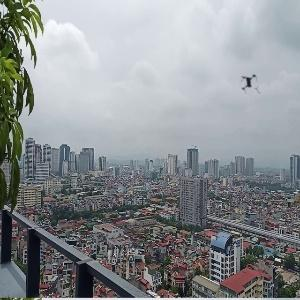drone: (226, 61, 273, 108)
